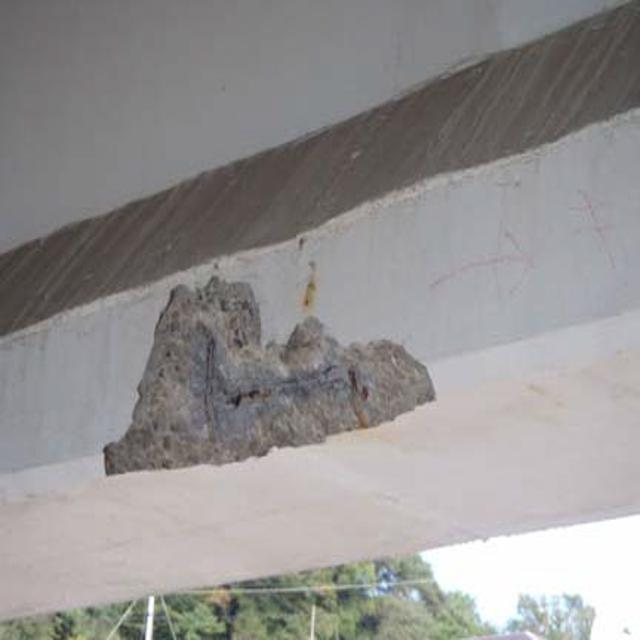spalling: (86, 258, 443, 488)
